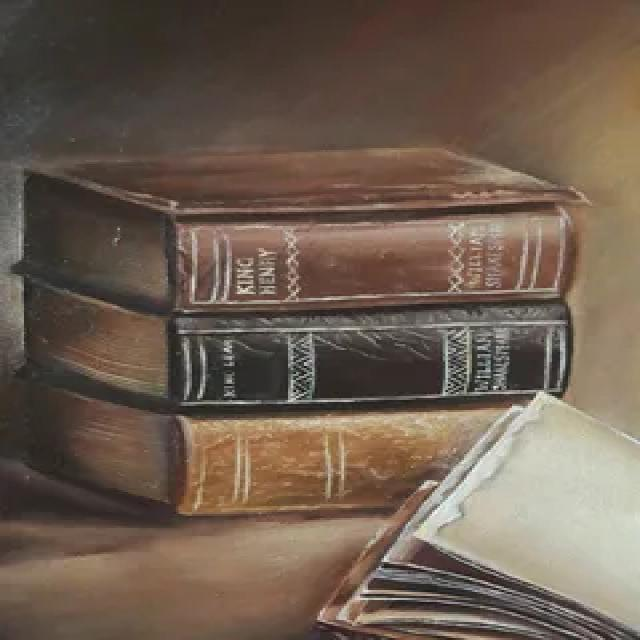book: (0, 131, 599, 322)
